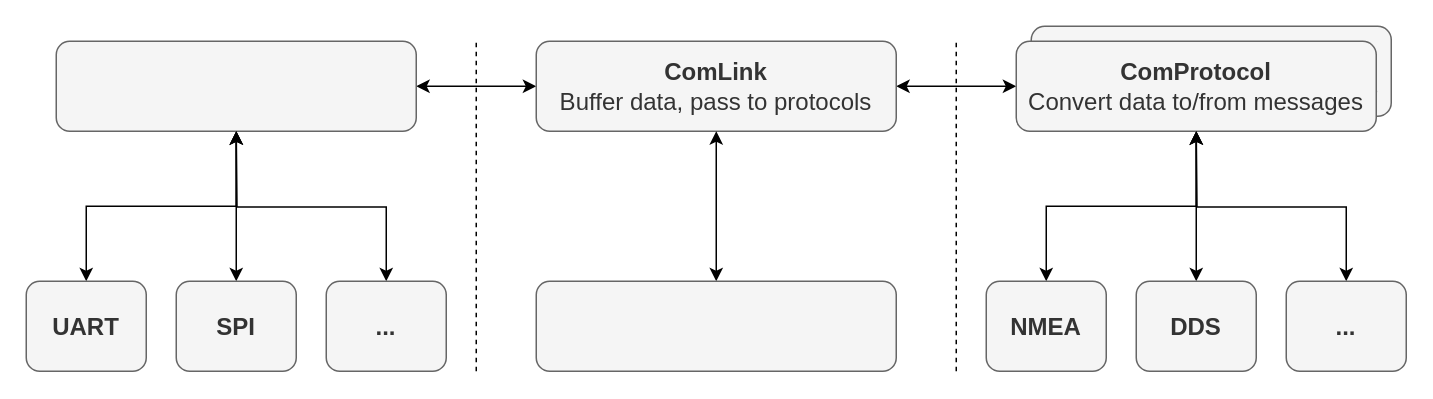
This 1433x399 diagram has some shape labels left out. Each missing label, with the box of its shape:
ComInterface Transmit/receive data: (55, 40, 416, 131)
ComLinkTemplate Templated buffer sizes based on application needs: (535, 280, 896, 371)
